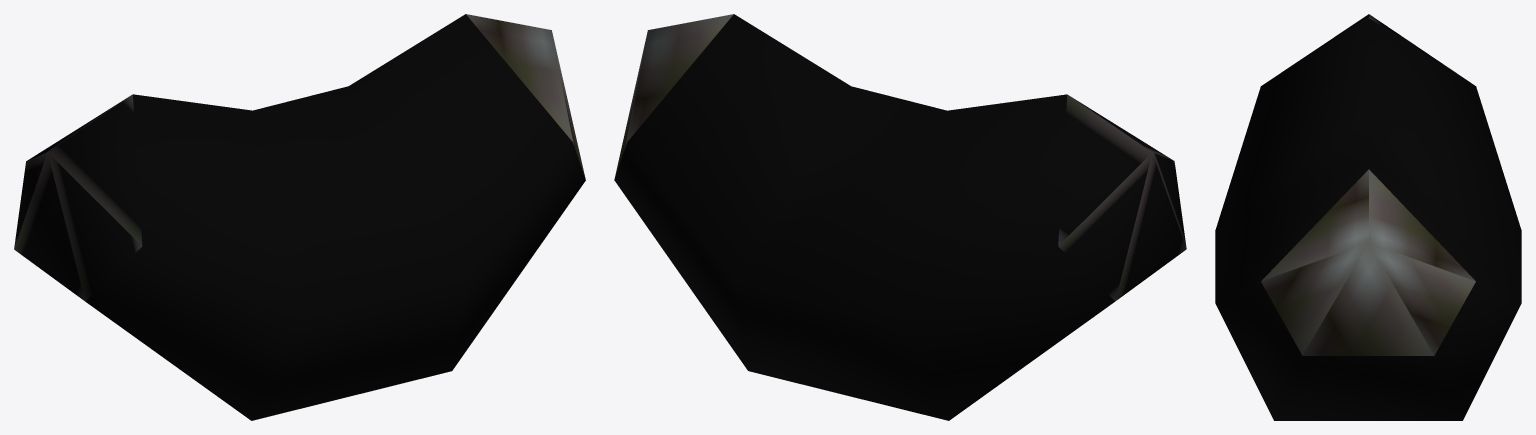
3 views of the same model, side by side, from view 1: azimuth 30°, elevation 25°; view 2: azimuth 150°, elevation 25°; view 3: azimuth 270°, elevation 25° (orthographic). The views are drawn at different scales.
Visible parts, largest first — view 1: T1L7M003_16; view 2: T1L7M003_16; view 3: T1L7M003_16.
Part boxes in pixels (x1=…): T1L7M003_16: x1=14, y1=14, x2=585, y2=420; T1L7M003_16: x1=614, y1=14, x2=1186, y2=420; T1L7M003_16: x1=1215, y1=14, x2=1521, y2=420.
Bounding box in the file's own units: 0.5547 × 0.3213 × 0.3154.
